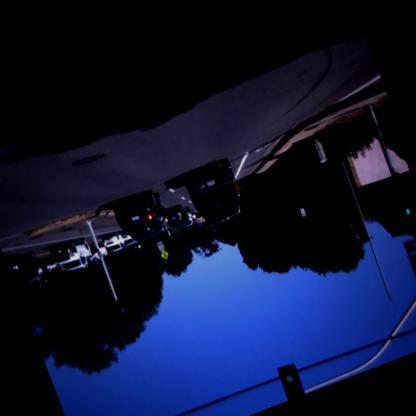trafficlight: (272, 358, 310, 400), (397, 199, 415, 235)
